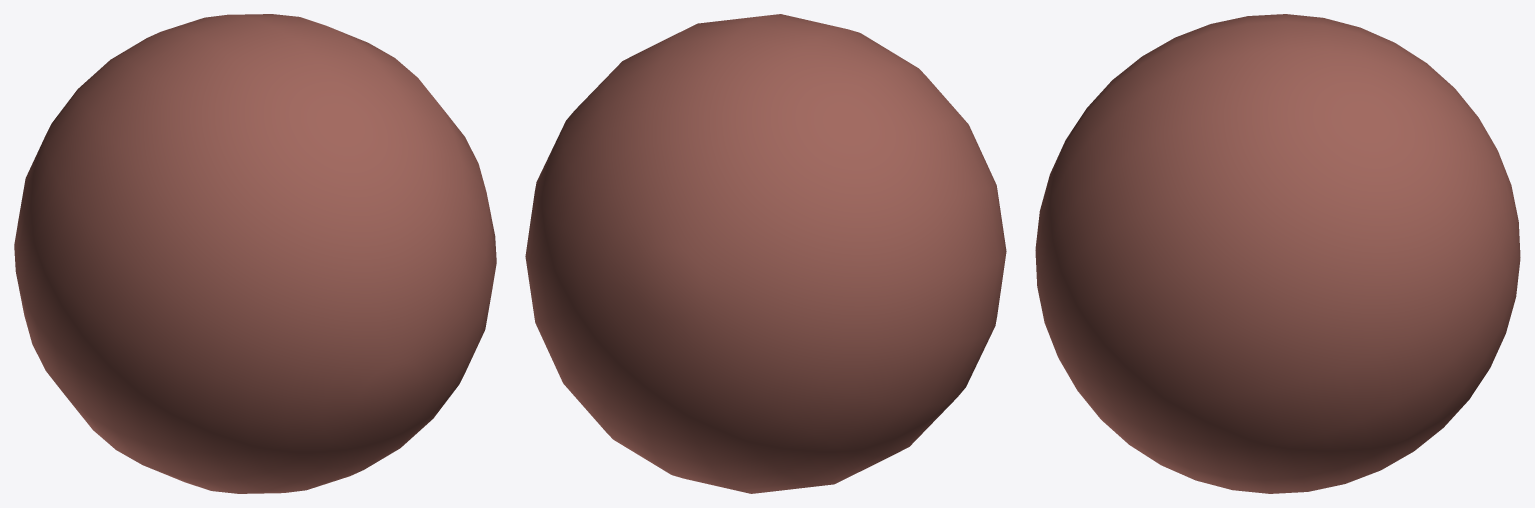
Rendered from mixamo_humanoid_joint_leftHand.fbx.
3 renders of one model, left to right at view 1: azimuth 30°, elevation 25°; view 2: azimuth 150°, elevation 25°; view 3: azimuth 270°, elevation 25°, orthographic.
Visible parts, largest first — view 1: joint_LeftHand; view 2: joint_LeftHand; view 3: joint_LeftHand.
Part boxes in pixels (x1=…): joint_LeftHand: x1=14, y1=14, x2=496, y2=493; joint_LeftHand: x1=525, y1=14, x2=1006, y2=493; joint_LeftHand: x1=1035, y1=14, x2=1520, y2=493.
Size of the model in its own units: 5.96 by 6 by 6.11.
